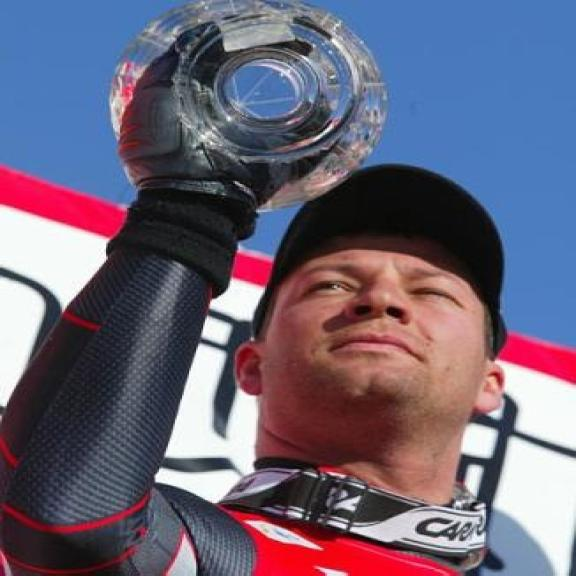face: (232, 243, 512, 448)
